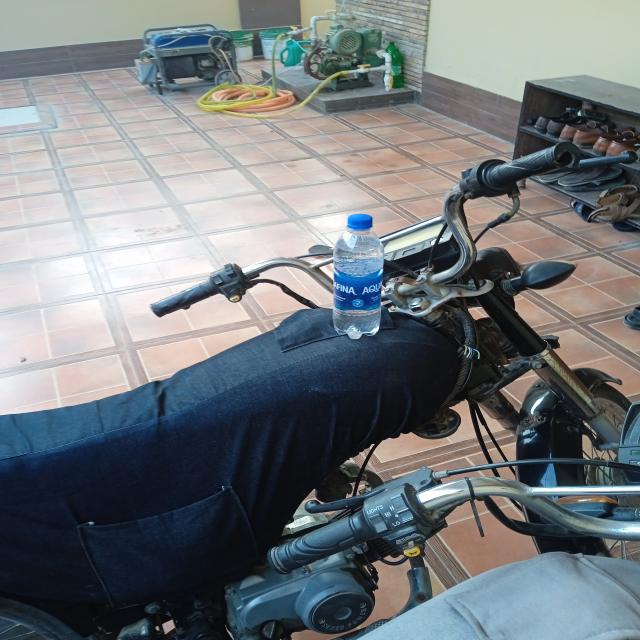Plastic: (328, 209, 394, 340)
